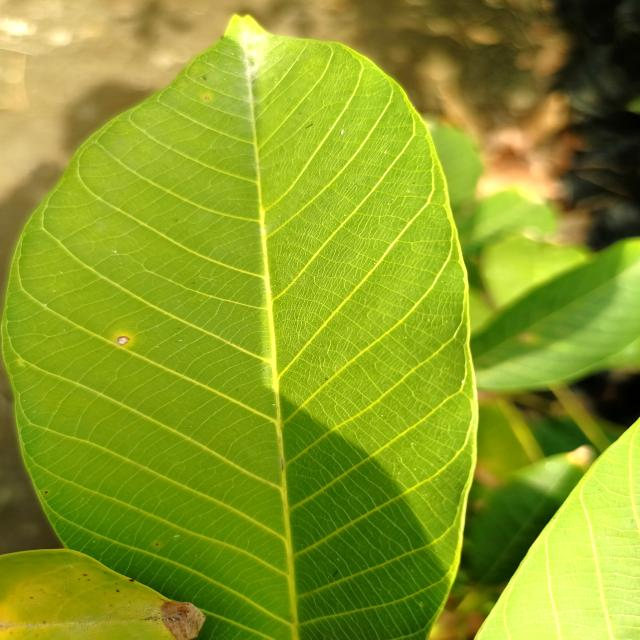Colletotrichum: (116, 336, 130, 346), (205, 97, 209, 100)
Leaf-Blight: (161, 601, 206, 640)
